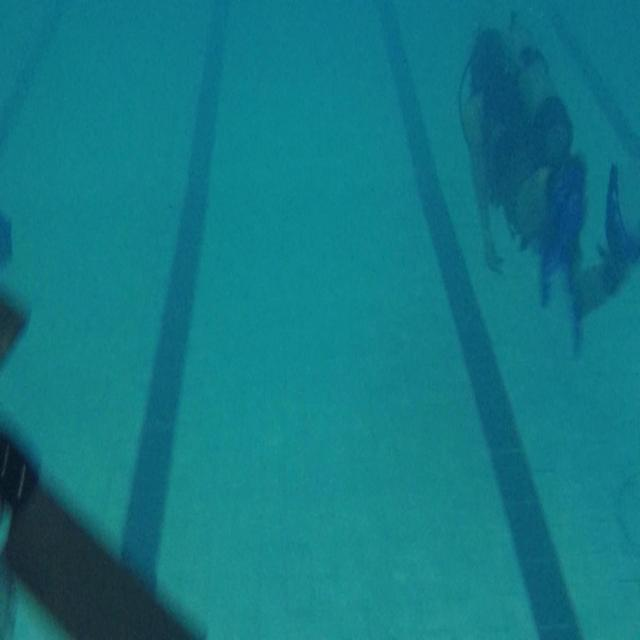human: (457, 16, 638, 355)
